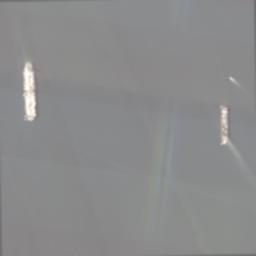boat: (23, 62, 36, 120), (220, 106, 228, 144), (230, 76, 232, 78)
